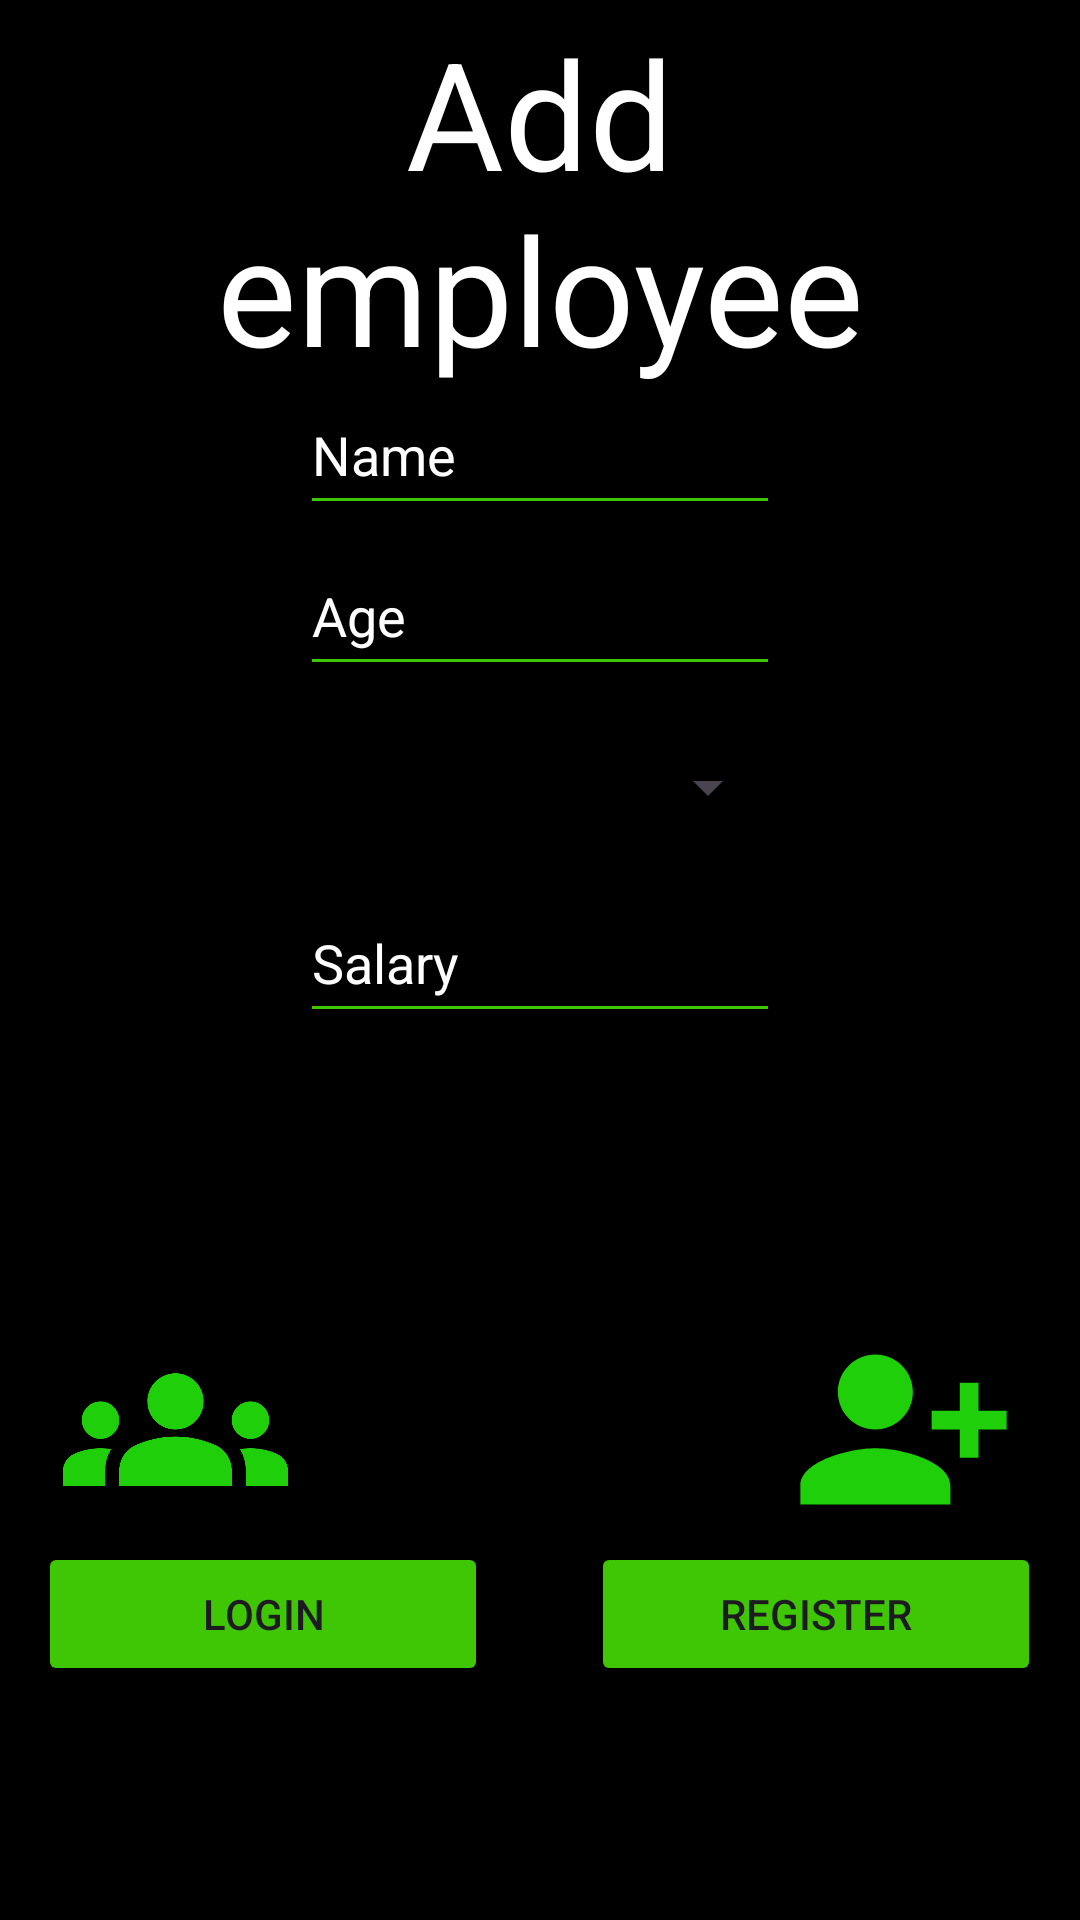

Where icons sit on this 1080w x 1920h app screen, as (x1, y1, x2, y2):
groups: (63, 1373, 288, 1486)
person add: (800, 1354, 1007, 1505)
